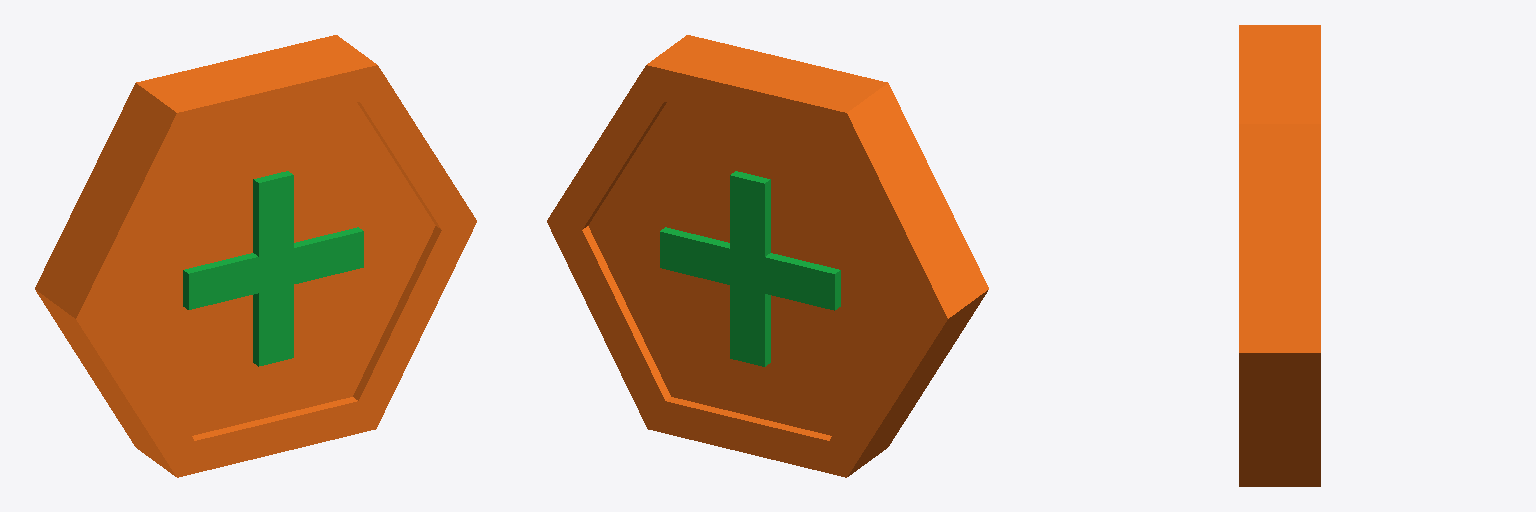
The model's file is Life.obj.
3 renders of one model, left to right at view 1: azimuth 30°, elevation 25°; view 2: azimuth 150°, elevation 25°; view 3: azimuth 270°, elevation 25°, orthographic.
Parts seen in each view (by area): view 1: Object.3, Object.1; view 2: Object.3, Object.2; view 3: Object.3.
Boxes of the visible parts, x1,y1,x2,y2 form: Object.3: [35, 35, 476, 477]; Object.1: [183, 171, 363, 366]; Object.3: [547, 35, 988, 477]; Object.2: [660, 171, 840, 366]; Object.3: [1239, 25, 1320, 486].
Bounding box in the file's own units: 57.59 × 50 × 10.3.